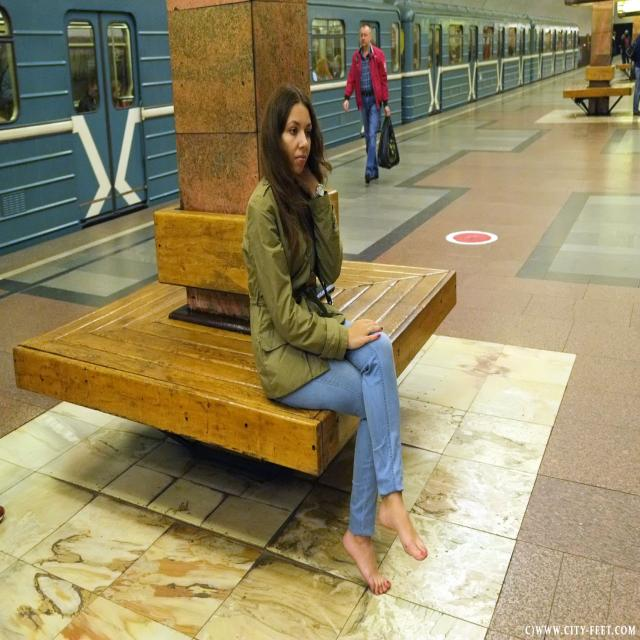Barefoots: (343, 528, 391, 595), (379, 498, 428, 561)
